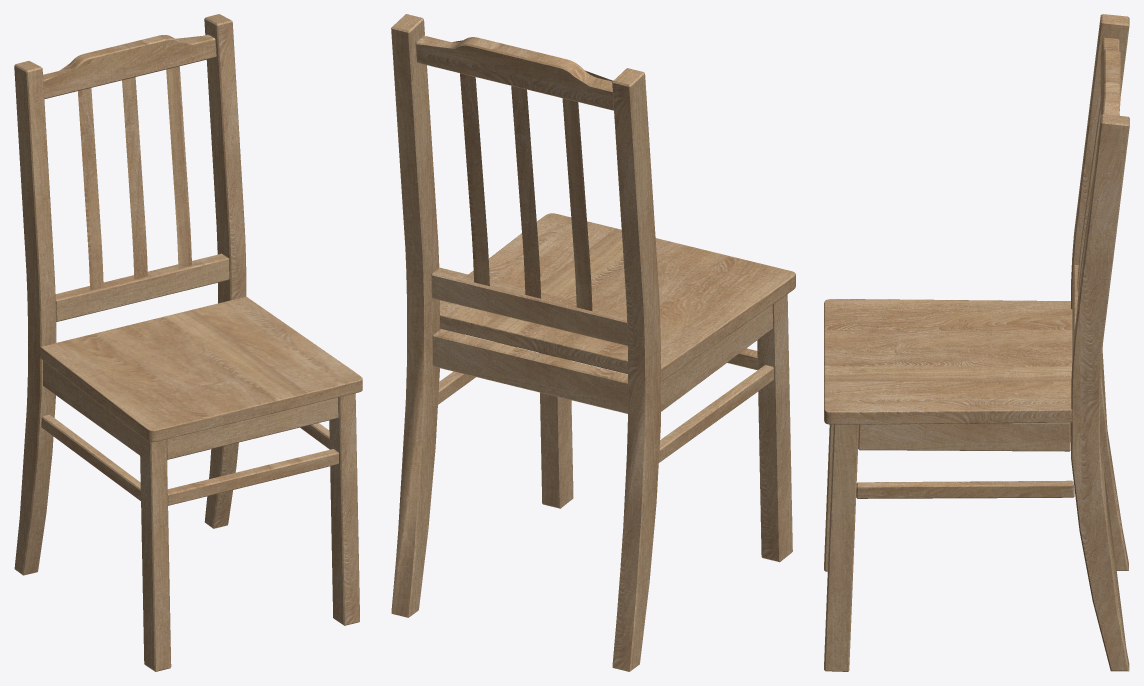
File: Chair.glb
3 renders of one model, left to right at view 1: azimuth 30°, elevation 25°; view 2: azimuth 150°, elevation 25°; view 3: azimuth 270°, elevation 25°, orthographic. The views are drawn at different scales.
Visible parts, largest first — view 1: 3d66-Editable_mesh-20421417-002; view 2: 3d66-Editable_mesh-20421417-002; view 3: 3d66-Editable_mesh-20421417-002.
Boxes of the visible parts, x1,y1,x2,y2 form: 3d66-Editable_mesh-20421417-002: (14, 14, 362, 671); 3d66-Editable_mesh-20421417-002: (391, 14, 795, 671); 3d66-Editable_mesh-20421417-002: (824, 14, 1129, 671).
Size of the model in its own units: 0.4177 by 0.9461 by 0.4761.
Materials: 1 (1 with a texture image).
